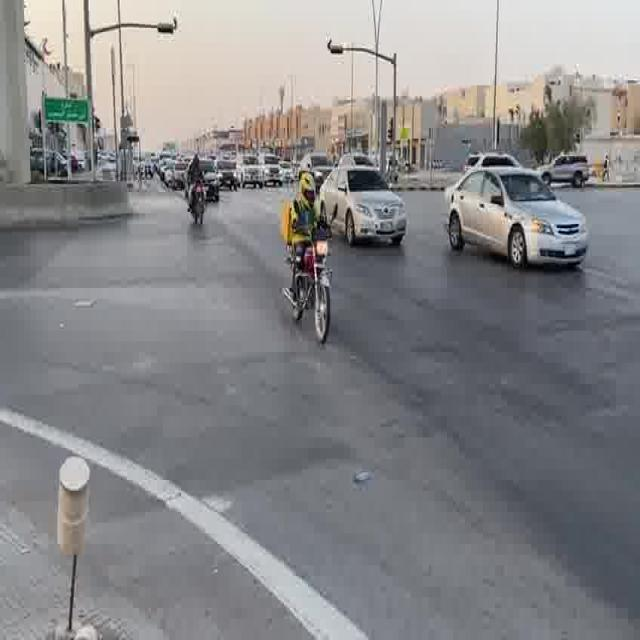bicycle: (290, 245, 335, 339), (190, 183, 207, 225)
bus: (448, 169, 591, 272), (320, 167, 398, 232), (345, 191, 409, 248), (237, 151, 280, 189), (545, 155, 593, 187), (32, 149, 70, 180), (466, 153, 519, 172), (217, 155, 239, 189), (202, 160, 223, 188), (166, 161, 187, 188), (96, 149, 120, 170)
car: (179, 209, 640, 640), (448, 169, 591, 272), (320, 167, 398, 232), (345, 191, 409, 248), (237, 151, 280, 189), (545, 155, 593, 187), (32, 149, 70, 180), (466, 153, 519, 172), (217, 155, 239, 189), (202, 160, 223, 188), (166, 161, 187, 188), (96, 149, 120, 170)
lanes: (179, 209, 640, 640), (226, 209, 639, 634), (290, 245, 335, 339), (190, 183, 207, 225)
lanes2: (226, 209, 639, 634), (260, 205, 640, 474)
lanes3: (260, 205, 640, 474), (286, 201, 640, 404)
lanes4: (286, 201, 640, 404), (327, 192, 640, 313)
lanes5: (327, 192, 640, 313)
